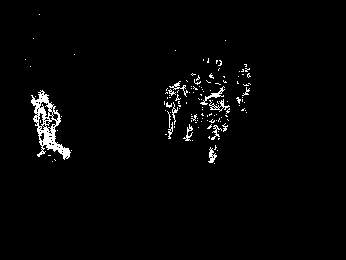person: (30, 88, 72, 163), (202, 84, 230, 167), (164, 76, 184, 138)
